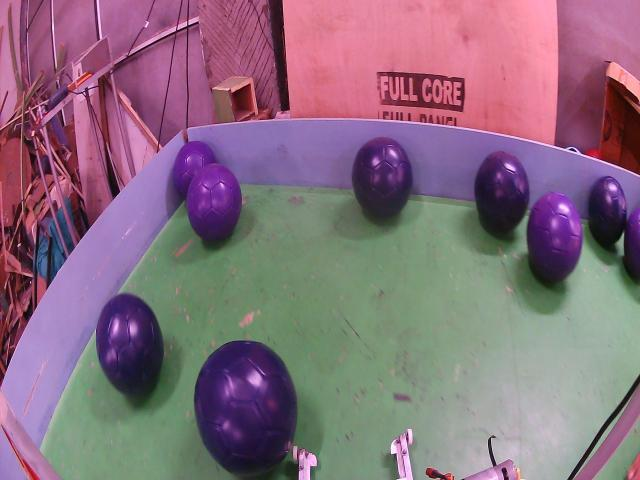jambhalya: (528, 192, 582, 282), (186, 163, 242, 241), (172, 142, 216, 197), (624, 207, 640, 280)
kaalyya: (194, 340, 298, 477), (96, 293, 164, 396), (351, 137, 412, 217), (475, 152, 529, 235), (589, 177, 626, 247)
